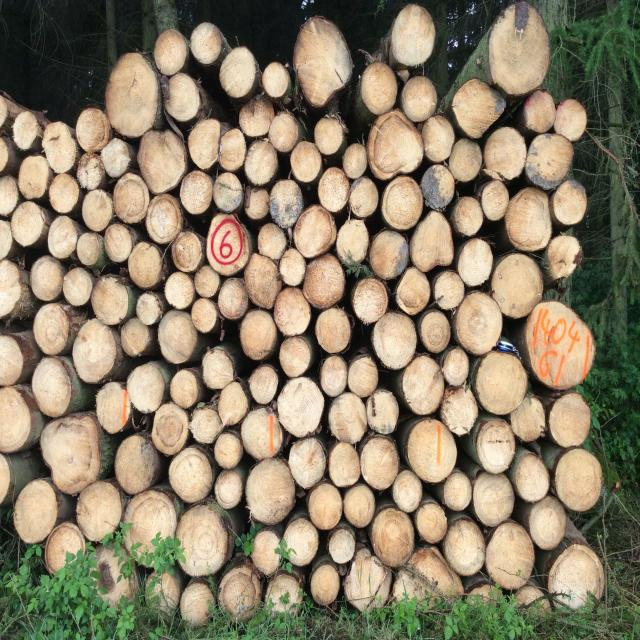wood-log: (523, 301, 599, 394), (491, 3, 554, 95), (40, 412, 110, 494), (297, 15, 356, 106), (108, 50, 163, 135), (178, 504, 233, 578), (366, 110, 422, 179), (402, 420, 458, 486), (474, 348, 530, 413), (484, 521, 536, 590), (246, 459, 298, 525), (453, 78, 510, 138), (490, 252, 543, 316), (402, 548, 460, 606), (453, 291, 503, 355), (137, 128, 186, 192), (72, 320, 121, 384), (554, 450, 603, 514), (124, 489, 179, 546), (507, 186, 555, 251), (9, 480, 57, 545), (276, 377, 326, 438), (390, 4, 437, 68), (344, 549, 392, 611), (75, 481, 124, 541), (549, 543, 604, 596), (32, 359, 80, 418), (116, 434, 163, 493), (410, 212, 456, 272), (217, 563, 263, 623), (372, 312, 418, 371), (207, 218, 252, 278), (526, 134, 574, 189), (401, 352, 445, 412), (370, 506, 414, 566), (168, 446, 214, 502), (443, 516, 485, 575), (0, 387, 38, 452), (474, 414, 516, 472), (302, 255, 347, 309), (549, 393, 593, 448), (240, 406, 285, 459), (483, 126, 527, 180), (294, 204, 338, 257), (472, 472, 515, 526), (158, 311, 200, 366), (381, 177, 424, 230), (242, 254, 283, 309), (46, 522, 89, 574), (357, 438, 397, 493), (527, 496, 567, 550), (91, 276, 133, 326), (368, 230, 410, 280), (220, 46, 260, 98), (358, 64, 398, 116), (289, 437, 329, 489), (30, 306, 70, 358), (239, 312, 280, 362), (330, 392, 369, 444), (511, 451, 550, 503), (95, 383, 133, 436), (440, 388, 481, 437), (273, 287, 313, 337), (127, 363, 166, 414), (153, 402, 190, 455), (144, 193, 183, 243), (114, 174, 153, 224), (163, 74, 201, 124), (42, 121, 79, 172), (546, 234, 585, 282), (313, 309, 352, 355), (456, 238, 494, 285), (9, 200, 47, 247), (186, 119, 221, 170), (350, 279, 388, 325), (401, 77, 439, 122), (77, 106, 114, 152), (308, 481, 343, 529), (285, 517, 320, 565), (265, 568, 305, 610), (396, 268, 432, 314), (129, 241, 164, 288), (155, 27, 190, 74), (244, 139, 278, 187), (179, 582, 216, 626), (179, 169, 215, 214), (217, 382, 253, 427), (29, 256, 64, 302), (511, 396, 546, 442), (251, 528, 283, 578), (552, 180, 586, 227), (318, 166, 352, 212), (278, 335, 315, 377), (19, 155, 53, 200), (523, 89, 557, 134), (337, 220, 370, 266), (48, 214, 82, 258), (328, 442, 362, 486), (423, 164, 457, 208), (344, 482, 377, 527), (192, 22, 226, 65), (202, 346, 236, 389), (239, 95, 274, 136), (449, 138, 483, 180), (434, 268, 468, 310), (82, 189, 115, 232), (247, 364, 281, 405), (171, 230, 204, 272), (415, 502, 448, 544), (218, 278, 251, 320), (289, 141, 322, 182), (269, 112, 302, 153), (348, 354, 380, 396), (420, 309, 451, 352), (49, 173, 82, 213), (121, 316, 154, 356), (218, 127, 248, 171), (170, 368, 203, 408), (451, 196, 483, 237), (390, 471, 422, 512), (556, 99, 588, 140), (0, 334, 25, 386), (213, 171, 244, 212), (310, 562, 340, 604), (350, 176, 380, 218), (62, 267, 94, 306), (442, 470, 472, 511), (314, 117, 346, 155), (164, 271, 196, 309), (103, 223, 133, 263), (480, 182, 510, 222), (101, 138, 131, 177), (13, 111, 42, 151), (0, 260, 20, 318), (321, 357, 349, 398), (214, 432, 244, 470), (258, 224, 290, 259), (442, 346, 470, 386), (191, 298, 220, 334), (264, 61, 292, 98), (278, 249, 306, 286), (215, 470, 242, 508), (330, 529, 358, 565), (342, 143, 369, 180), (194, 264, 222, 298), (76, 232, 103, 267), (245, 188, 271, 221), (0, 177, 20, 217), (137, 293, 162, 325), (0, 219, 13, 260), (0, 454, 10, 503), (0, 136, 12, 175), (0, 93, 9, 128)
